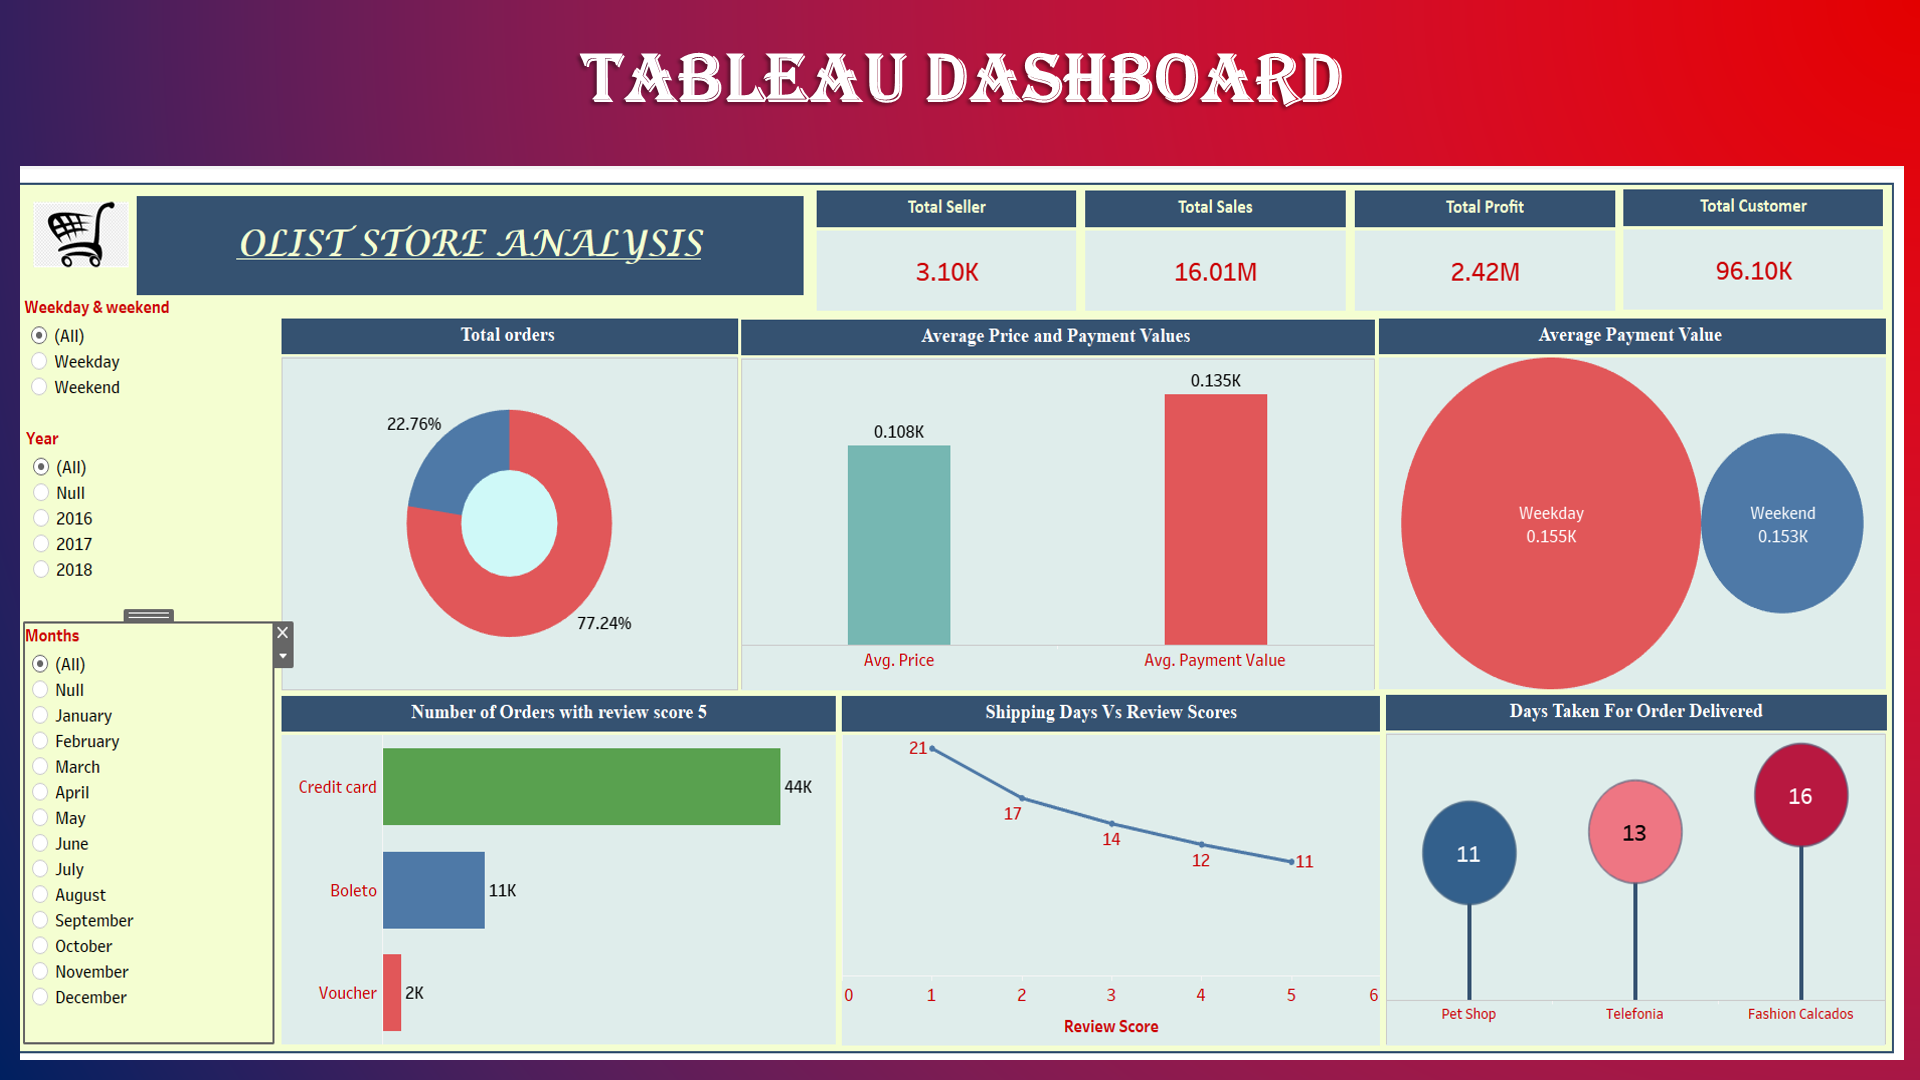

This screenshot's page, from the dashboard's own definition file:
{"tool":"tableau","page":{"name":"Dashboard 1","canvas":[1000,1000],"units":"permille","ordinal":0},"visuals":[{"type":"worksheet","title":"Total Customer","mark":"Automatic","box":[852.1,22.4,136.9,134.6]},{"type":"worksheet","title":"Total Seller","mark":"Automatic","box":[427.3,23.8,136.9,134.6]},{"type":"worksheet","title":"Total Sales","mark":"Automatic","box":[569.1,23.8,136.9,134.6]},{"type":"worksheet","title":"Total Profit","mark":"Automatic","box":[710.9,23.8,136.9,134.6]},{"type":"text","box":[69.4,30.3,351.2,110.8]},{"type":"image","param":"C:/Users/User/Pictures/logo for project.png","box":[14.6,35.6,50.5,91]},{"type":"filter","title":"KPI - 1.1","param":"[federated.1eqgc0s1p0jy1r1btusjz1s428x7].[none:Calculation_1027102193950846976:n","box":[9.9,141.2,132.7,149.1]},{"type":"worksheet","title":"KPI - 1.1","mark":"Pie","rows":["Calculation_923800877842964482","Calculation_923800877842964482"],"box":[145.5,167.6,240.4,416.9]},{"type":"worksheet","title":"KPI - 1.2","mark":"Circle","box":[723.7,167.6,267.2,415.6]},{"type":"worksheet","title":"KPI - 4","mark":"Automatic","cols":["customer_city"],"box":[387.7,168.9,333.5,415.6]},{"type":"filter","title":"KPI - 1.1","param":"[federated.1eqgc0s1p0jy1r1btusjz1s428x7].[yr:order_purchase_timestamp:ok]","box":[11.2,288.9,127.3,249.3]},{"type":"filter","title":"KPI - 1.1","param":"[federated.1eqgc0s1p0jy1r1btusjz1s428x7].[mn:order_purchase_timestamp:ok]","box":[10.5,509.2,130.6,469.7]},{"type":"worksheet","title":"KPI-3","mark":"Automatic","rows":["Calculation_923800877751369728","Calculation_923800877751369728"],"cols":["product_category_name (product_category_name_translation.csv"],"box":[727.3,589.7,263.5,393.1]},{"type":"worksheet","title":"KPI-2","mark":"Automatic","rows":["payment_type"],"cols":["olist!order!reviews!dataset_34B29EED36E8434FBC52C2E5BA74A3B2"],"box":[145.5,591,292.2,390.5]},{"type":"worksheet","title":"KPI - 5","mark":"Automatic","rows":["Calculation_923800877757820929"],"cols":["review_score"],"box":[440.5,591,283.7,391.8]}]}

Visuals, with their boxes on the dashboard's canvas, which has no fixed pixel size, in thousandths of its width and height (x1, y1, x2, y2). These are canvas units, not pixel positions in the 1920x1080 screenshot, which may show the page scaled, cropped or inside an application window:
"Total Customer" worksheet: box(852, 22, 989, 157)
"Total Seller" worksheet: box(427, 24, 564, 158)
"Total Sales" worksheet: box(569, 24, 706, 158)
"Total Profit" worksheet: box(711, 24, 848, 158)
text: box(69, 30, 421, 141)
image: box(15, 36, 65, 127)
"KPI - 1.1" filter: box(10, 141, 143, 290)
"KPI - 1.1" worksheet (Pie marks): box(146, 168, 386, 584)
"KPI - 1.2" worksheet (Circle marks): box(724, 168, 991, 583)
"KPI - 4" worksheet: box(388, 169, 721, 584)
"KPI - 1.1" filter: box(11, 289, 138, 538)
"KPI - 1.1" filter: box(10, 509, 141, 979)
"KPI-3" worksheet: box(727, 590, 991, 983)
"KPI-2" worksheet: box(146, 591, 438, 982)
"KPI - 5" worksheet: box(440, 591, 724, 983)
